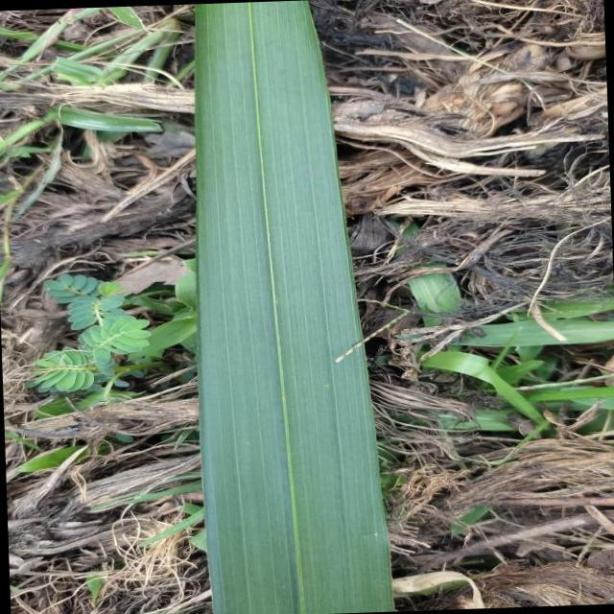Healthy: (191, 0, 393, 612)
